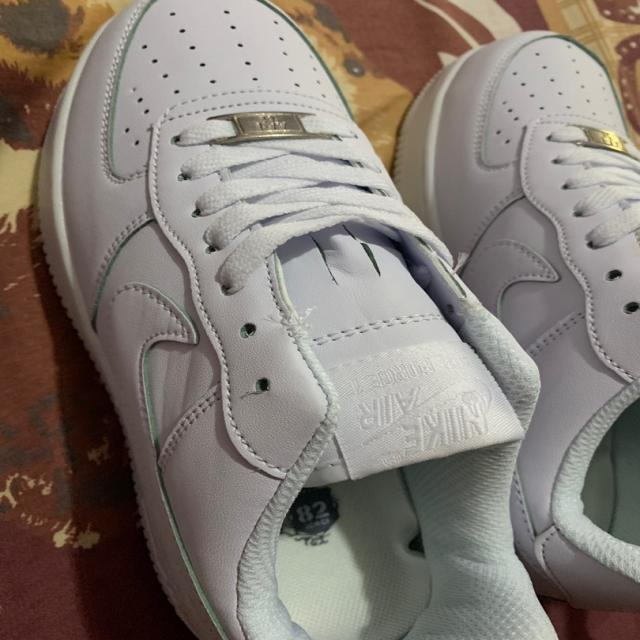nike fake air force: (30, 0, 558, 640), (383, 24, 634, 612)
